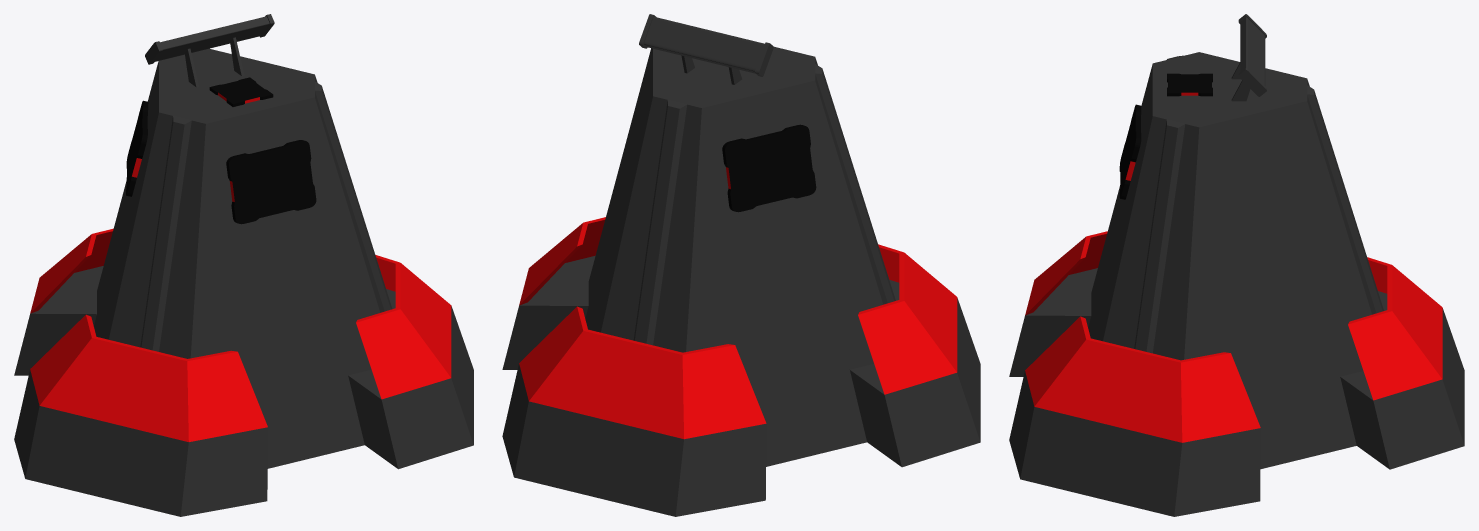
The model's file is Thing.glb.
3 views of the same model, side by side, from view 1: azimuth 30°, elevation 25°; view 2: azimuth 150°, elevation 25°; view 3: azimuth 270°, elevation 25° (orthographic). The views are drawn at different scales.
Visible parts, largest first — view 1: Cylinder, Cube, Cube.002, Cube.001, Cube.005; view 2: Cylinder, Cube.001, Cube.002; view 3: Cylinder, Cube.002, Cube, Cube.005.
Boxes of the visible parts, x1=… form: Cylinder: x1=14, y1=48, x2=473, y2=516; Cube: x1=226, y1=140, x2=316, y2=224; Cube.002: x1=145, y1=14, x2=274, y2=64; Cube.001: x1=126, y1=100, x2=148, y2=196; Cube.005: x1=209, y1=77, x2=273, y2=106; Cylinder: x1=502, y1=46, x2=980, y2=516; Cube.001: x1=722, y1=124, x2=816, y2=212; Cube.002: x1=639, y1=14, x2=773, y2=76; Cylinder: x1=1009, y1=52, x2=1464, y2=516; Cube.002: x1=1238, y1=14, x2=1266, y2=96; Cube: x1=1119, y1=104, x2=1141, y2=199; Cube.005: x1=1167, y1=73, x2=1212, y2=96.
Size of the model in its own units: 0.8893 by 0.7012 by 0.7893.
